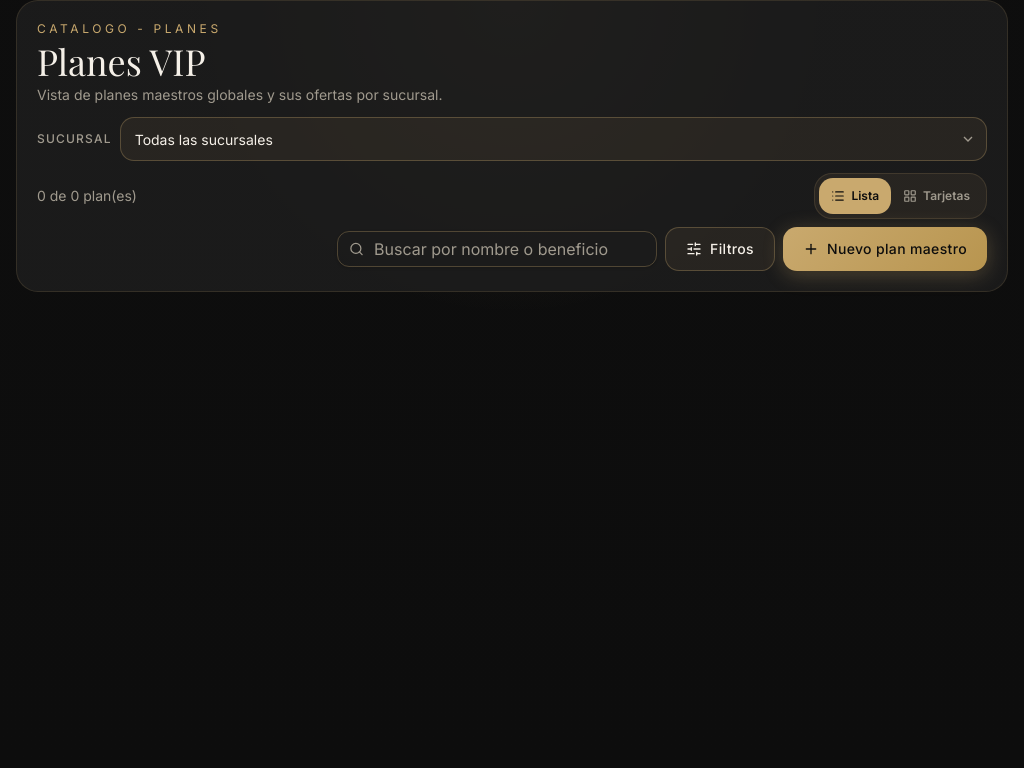
Test: respuesta tardia A (success) no sustituye B
Step 1. Select "Centro" in the dropdown labelled "Sucursal" → (553, 139), box [120,117,987,161]
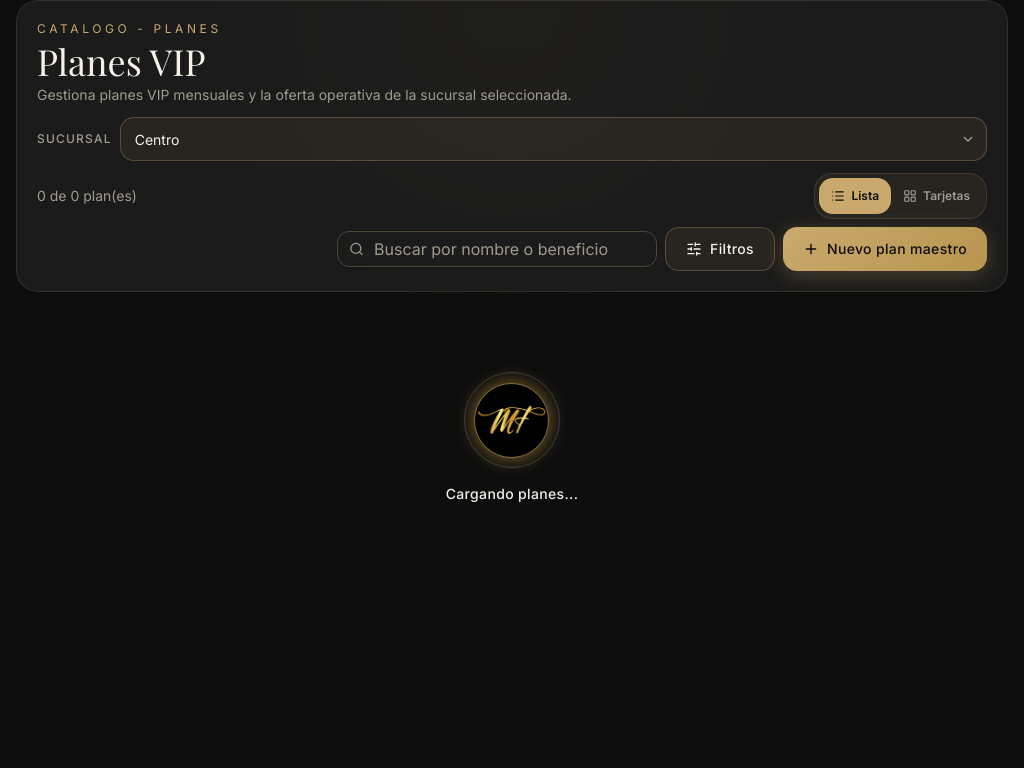
Step 2. Select "Norte" in the dropdown labelled "Sucursal" → (553, 139), box [120,117,987,161]
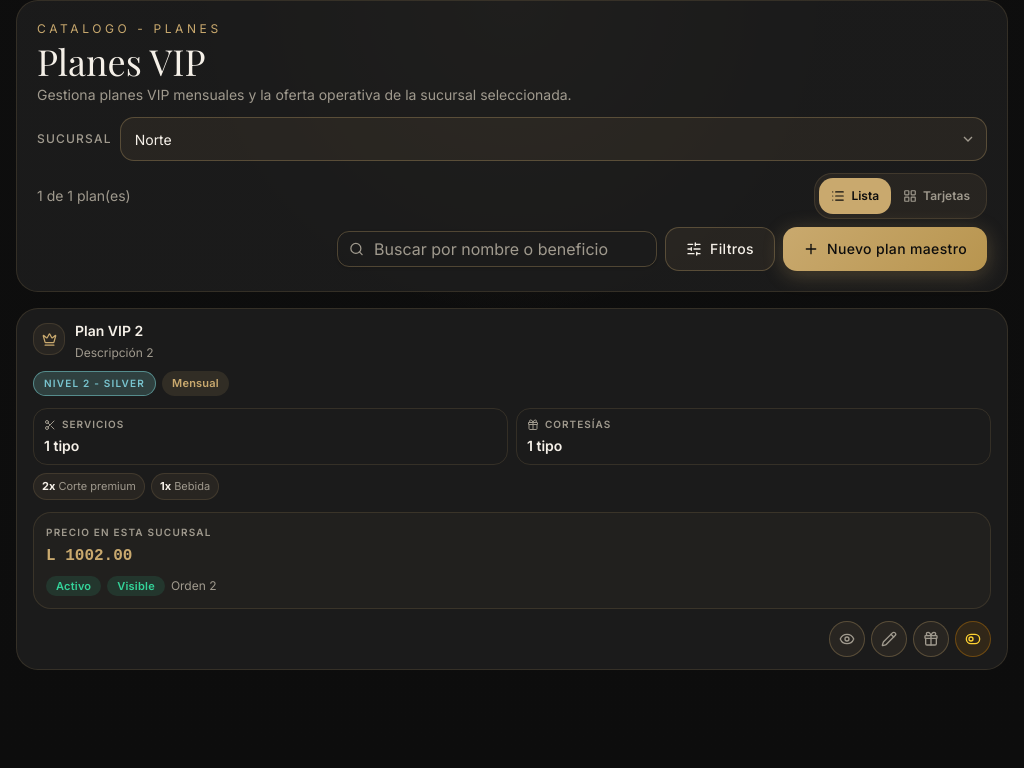
Check: the heading "Plan VIP 2" is shown, box [75,321,154,341]
